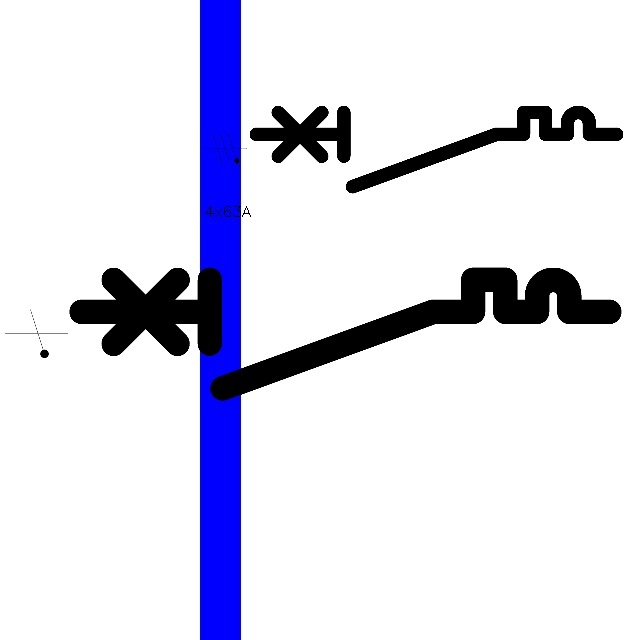interruptor_termomagnetico: (67, 266, 622, 402), (246, 103, 625, 195)
